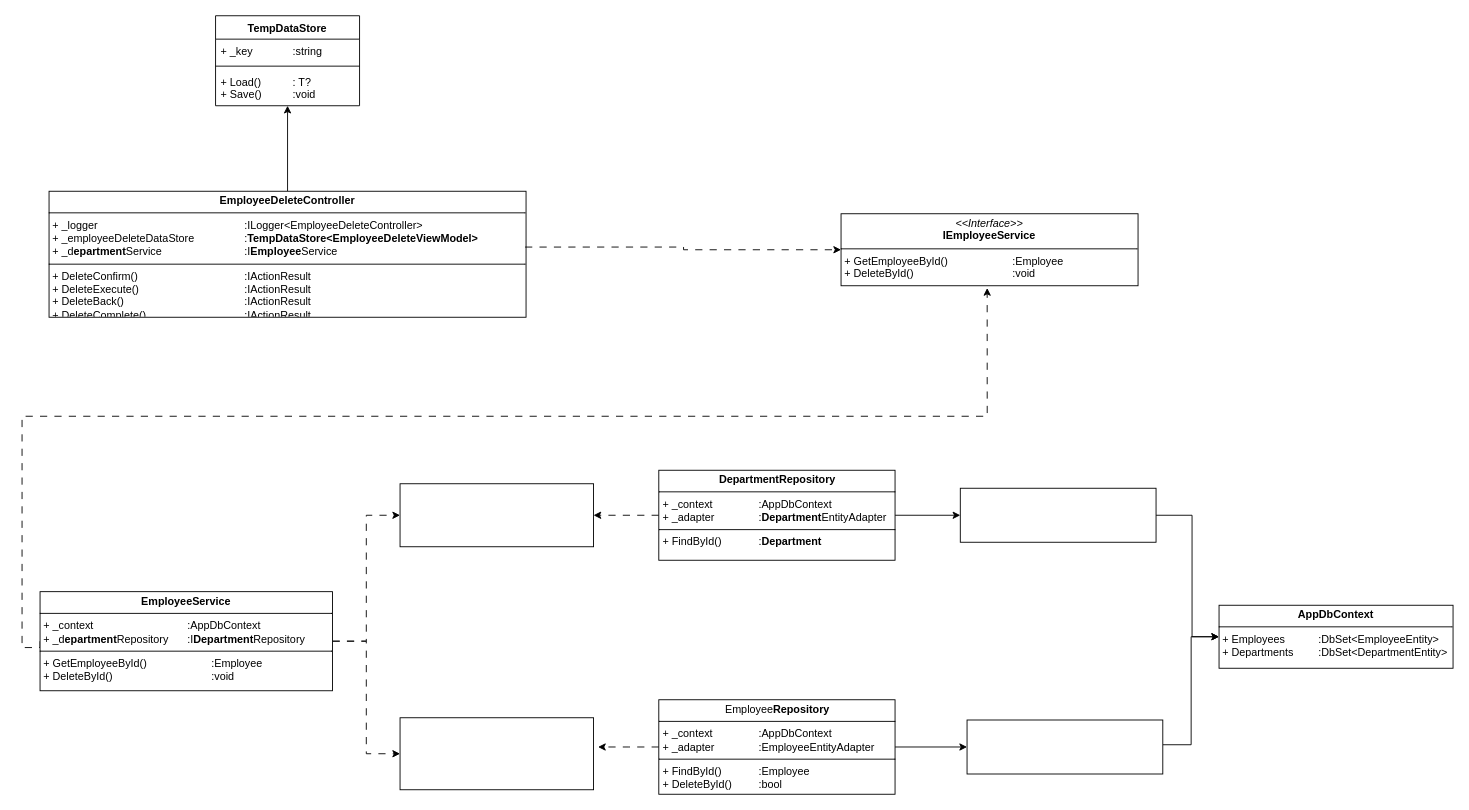
Some shapes in this 1469 by 810 pixel diagram are drawn without their labels. The shapes that lost their labels are listed below. From the top down, each one's centre as x and y in pixels, then its label:
(x=496, y=515): <<Interface>> I Department Repository + FindById() : Department
(x=1057, y=514): DepartmentEntityAdapter + ReStore() : Department Entity
(x=496, y=753): <<Interface>> IEmployee Repository + FindById() :Employee +DeleteById() :bool
(x=1064, y=746): Employee EntityAdapter + ReStore() : Employee Entity
